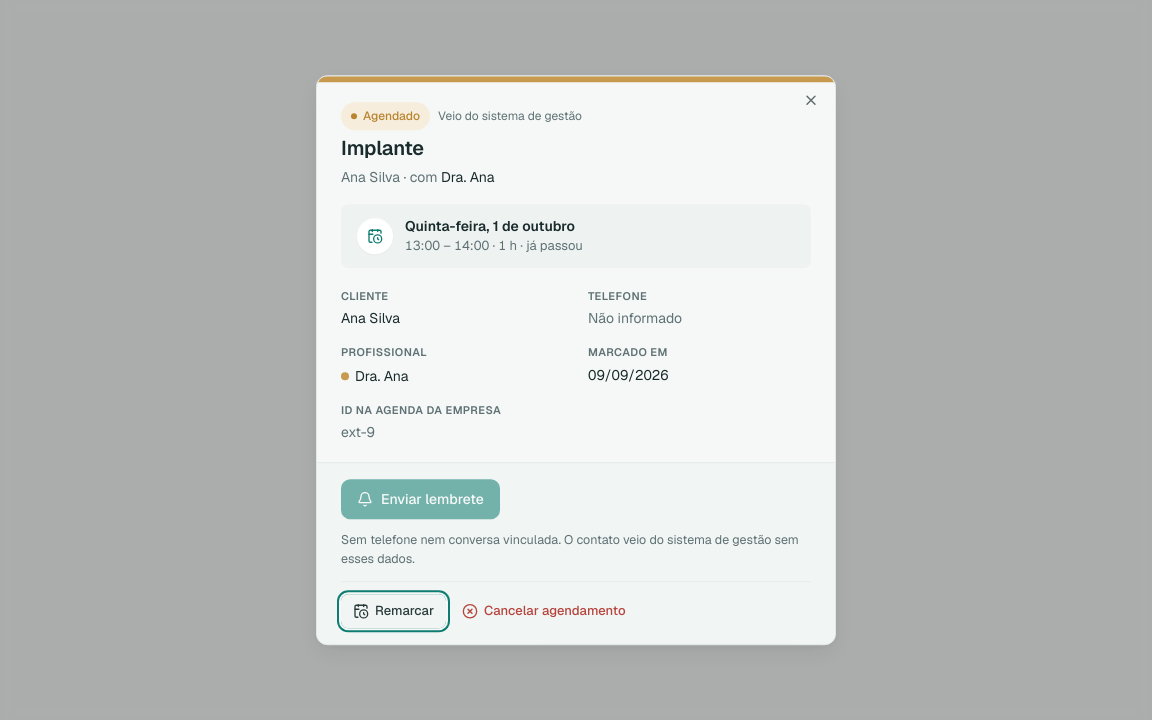
Test case: AppointmentDetailDialog › mostra a resposta da agenda da empresa quando ela recusa
Click the button "Remarcar" at coordinates (394, 611), box [341, 594, 446, 628]
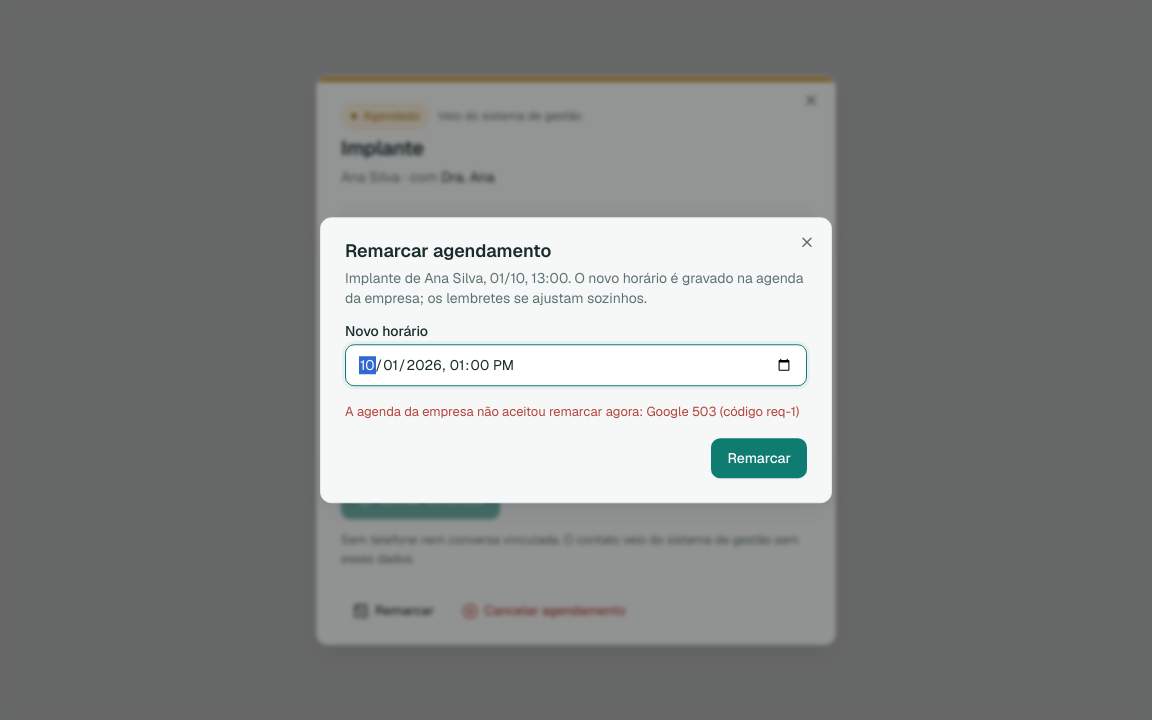
Expected: the message reads "A agenda da empresa não aceitou remarcar agora: Google 503 (código req-1)", [345, 403, 799, 420]
